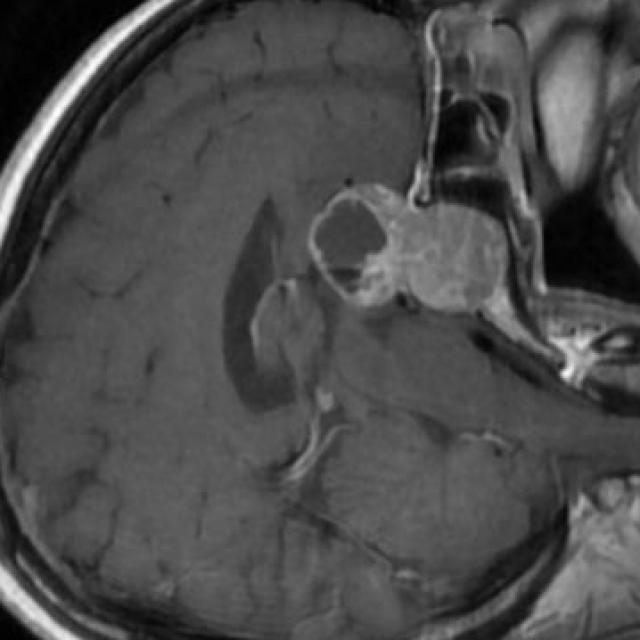pituitary: (307, 184, 508, 312)
